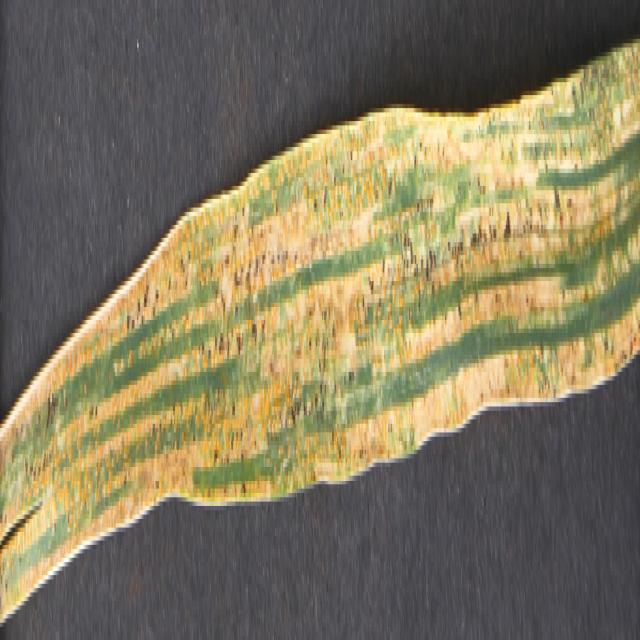leaf rust: (9, 61, 640, 601)
